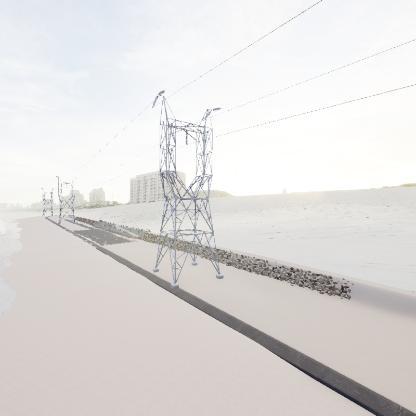tower: (148, 92, 225, 294), (55, 174, 80, 226), (40, 185, 55, 218)
